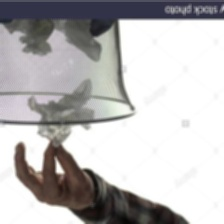tissue: (23, 75, 101, 151), (0, 19, 60, 62), (57, 20, 105, 66)
